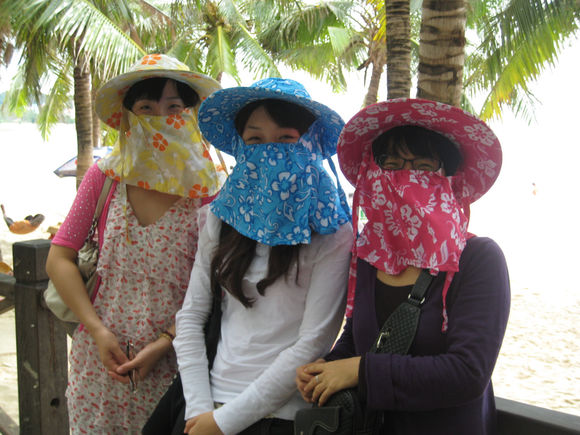face_mask: (380, 135, 441, 214), (242, 110, 301, 185), (132, 83, 185, 156)
